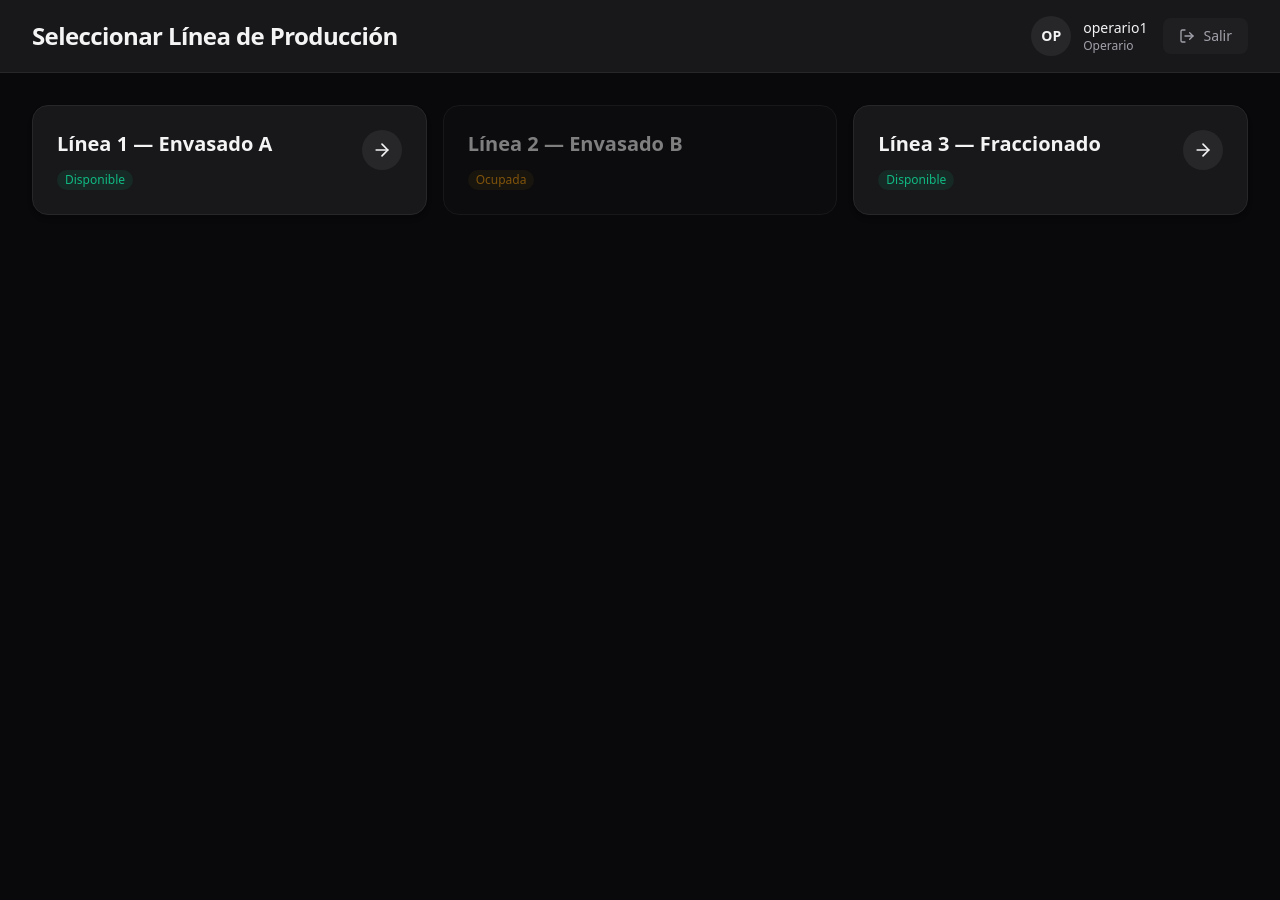
Test: SeleccionLineaPage › muestra un toast de error genérico cuando falla la activación por un motivo no-409
What coordinates should you click on to do the following:
click the text "Línea 1 — Envasado A"
I would click on:
 (165, 144)
Its box is [57,130,272,158].
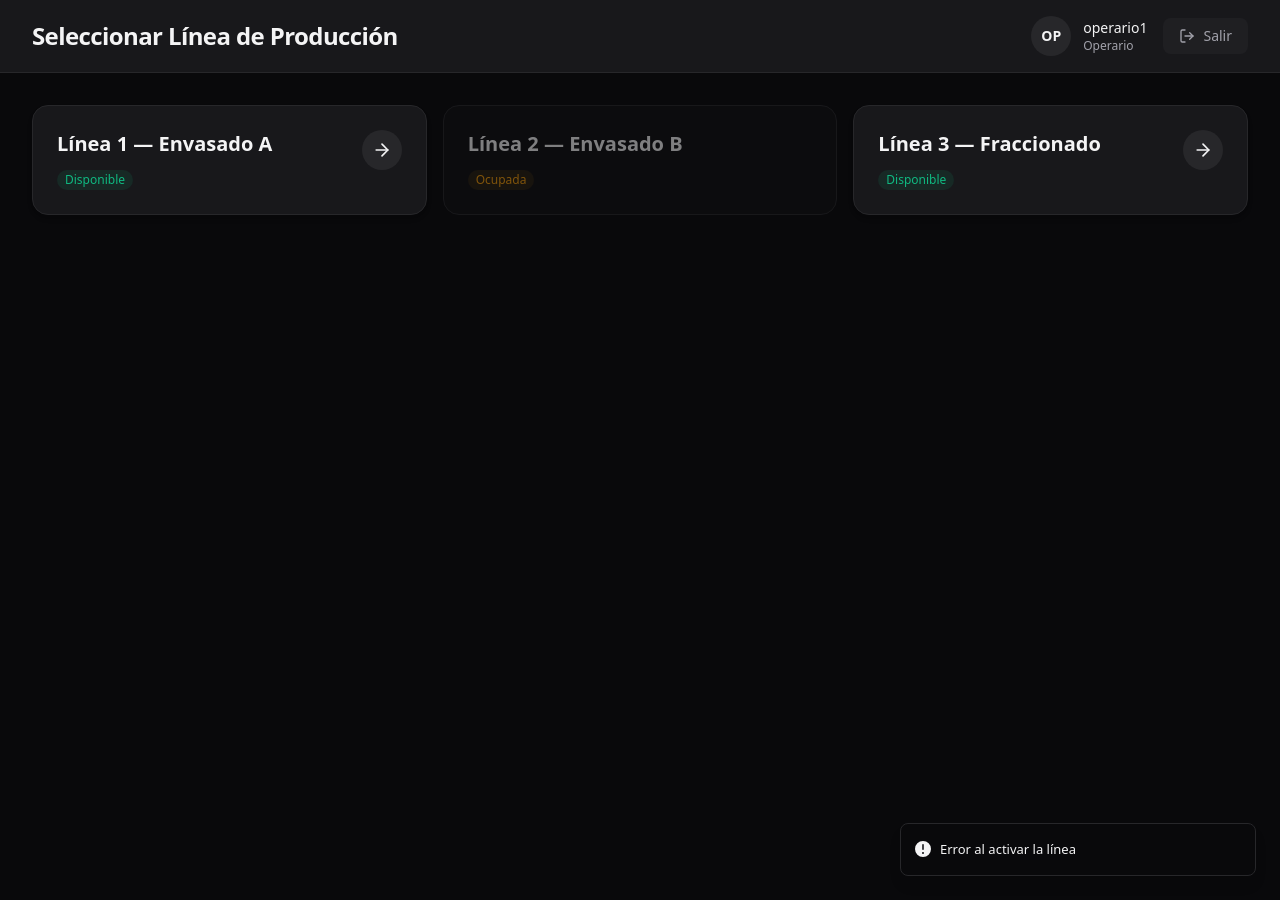
Expected: the text "Error al activar la línea" is shown, [940,840,1076,859]
